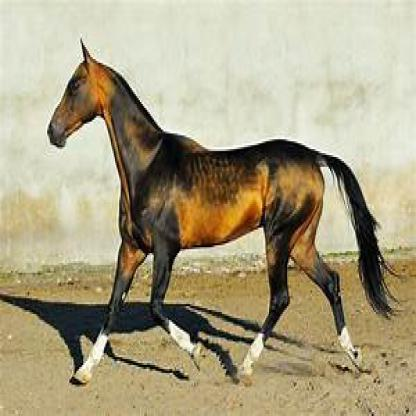horse: (47, 37, 384, 385)
